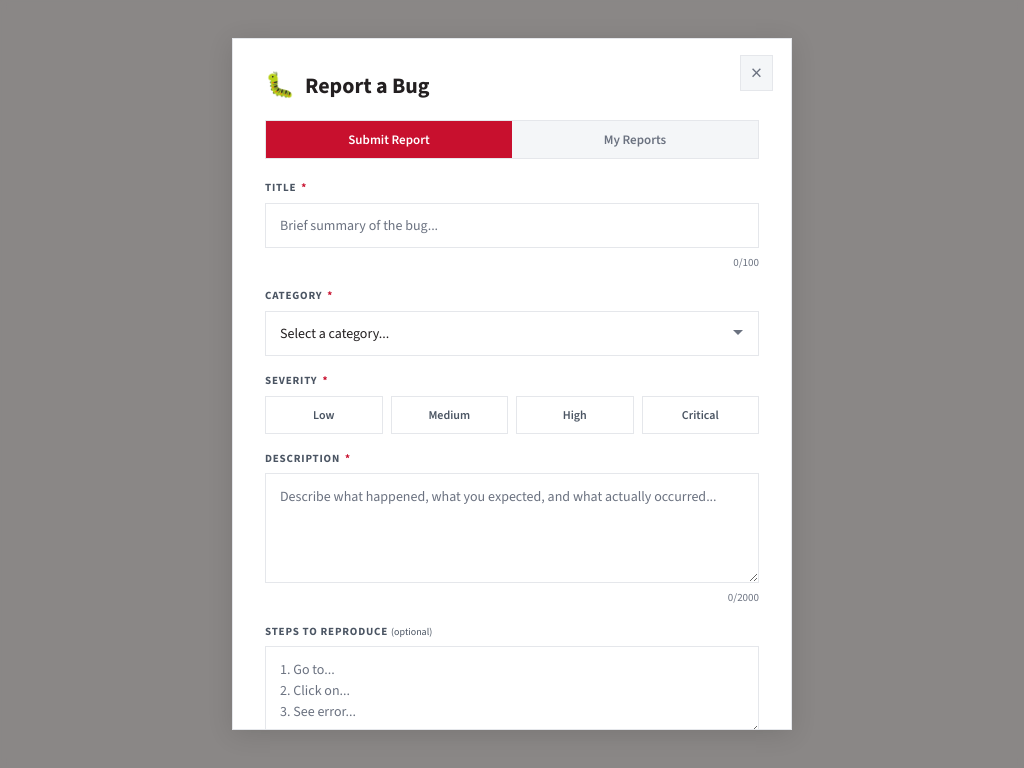
Test case: BugReportModal › My Reports tab › should show empty state when no reports exist
The image size is (1024, 768).
Click the button "My Reports" at (635, 140), box [512,121,758,158]
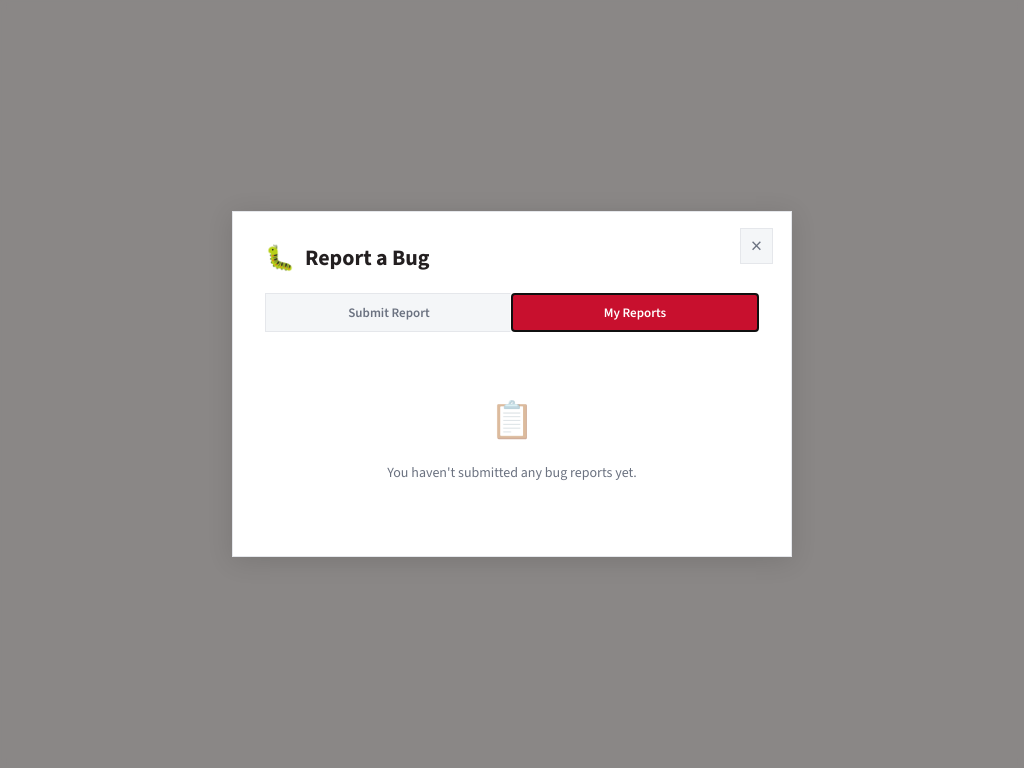
Check: the text "📋 You haven't submitted any bug reports yet." is shown, box [387,396,637,482]
